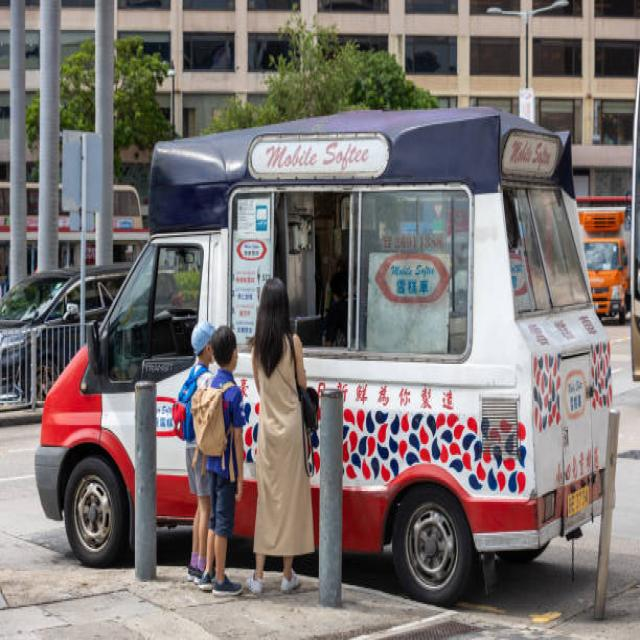Emperan: (26, 108, 626, 608)
